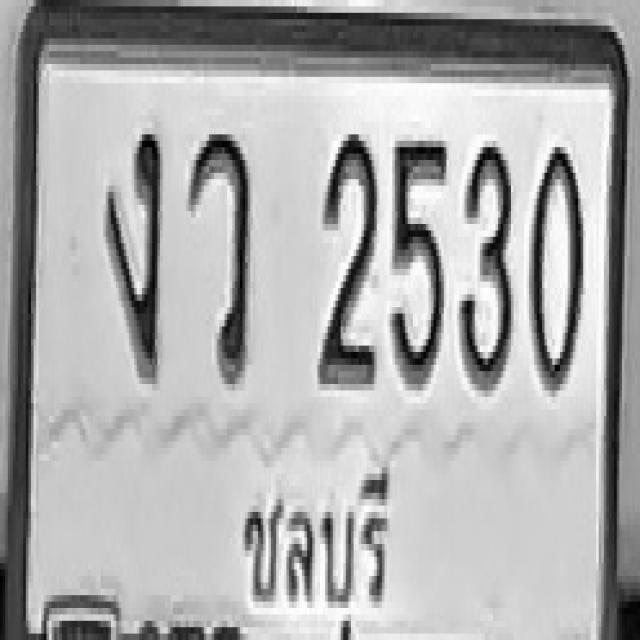0: (529, 141, 583, 390)
16NgorNgu: (105, 128, 162, 378)
2: (317, 128, 377, 384)
3: (459, 141, 511, 390)
46WorWaen: (188, 128, 250, 384)
5: (389, 134, 446, 384)
Chonburi: (234, 459, 389, 623)
